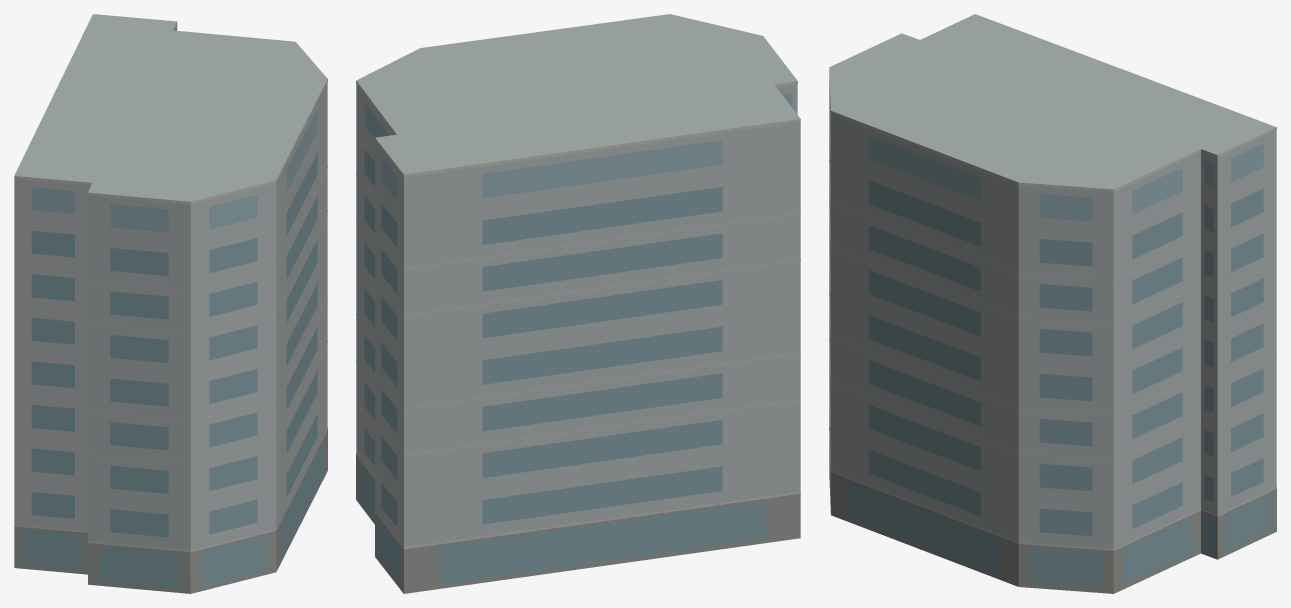
The model's file is survey-upis-32506976.glb.
3 renders of one model, left to right at view 1: azimuth 30°, elevation 25°; view 2: azimuth 150°, elevation 25°; view 3: azimuth 270°, elevation 25°, orthographic. The views are drawn at different scales.
Parts seen in each view (by area): view 1: survey-upis-32506976.tmp; view 2: survey-upis-32506976.tmp; view 3: survey-upis-32506976.tmp.
Boxes of the visible parts, x1,y1,x2,y2 form: survey-upis-32506976.tmp: (14, 14, 327, 593); survey-upis-32506976.tmp: (356, 14, 800, 593); survey-upis-32506976.tmp: (829, 14, 1276, 593).
Bounding box in the file's own units: 31.19 × 33.5 × 33.62.
